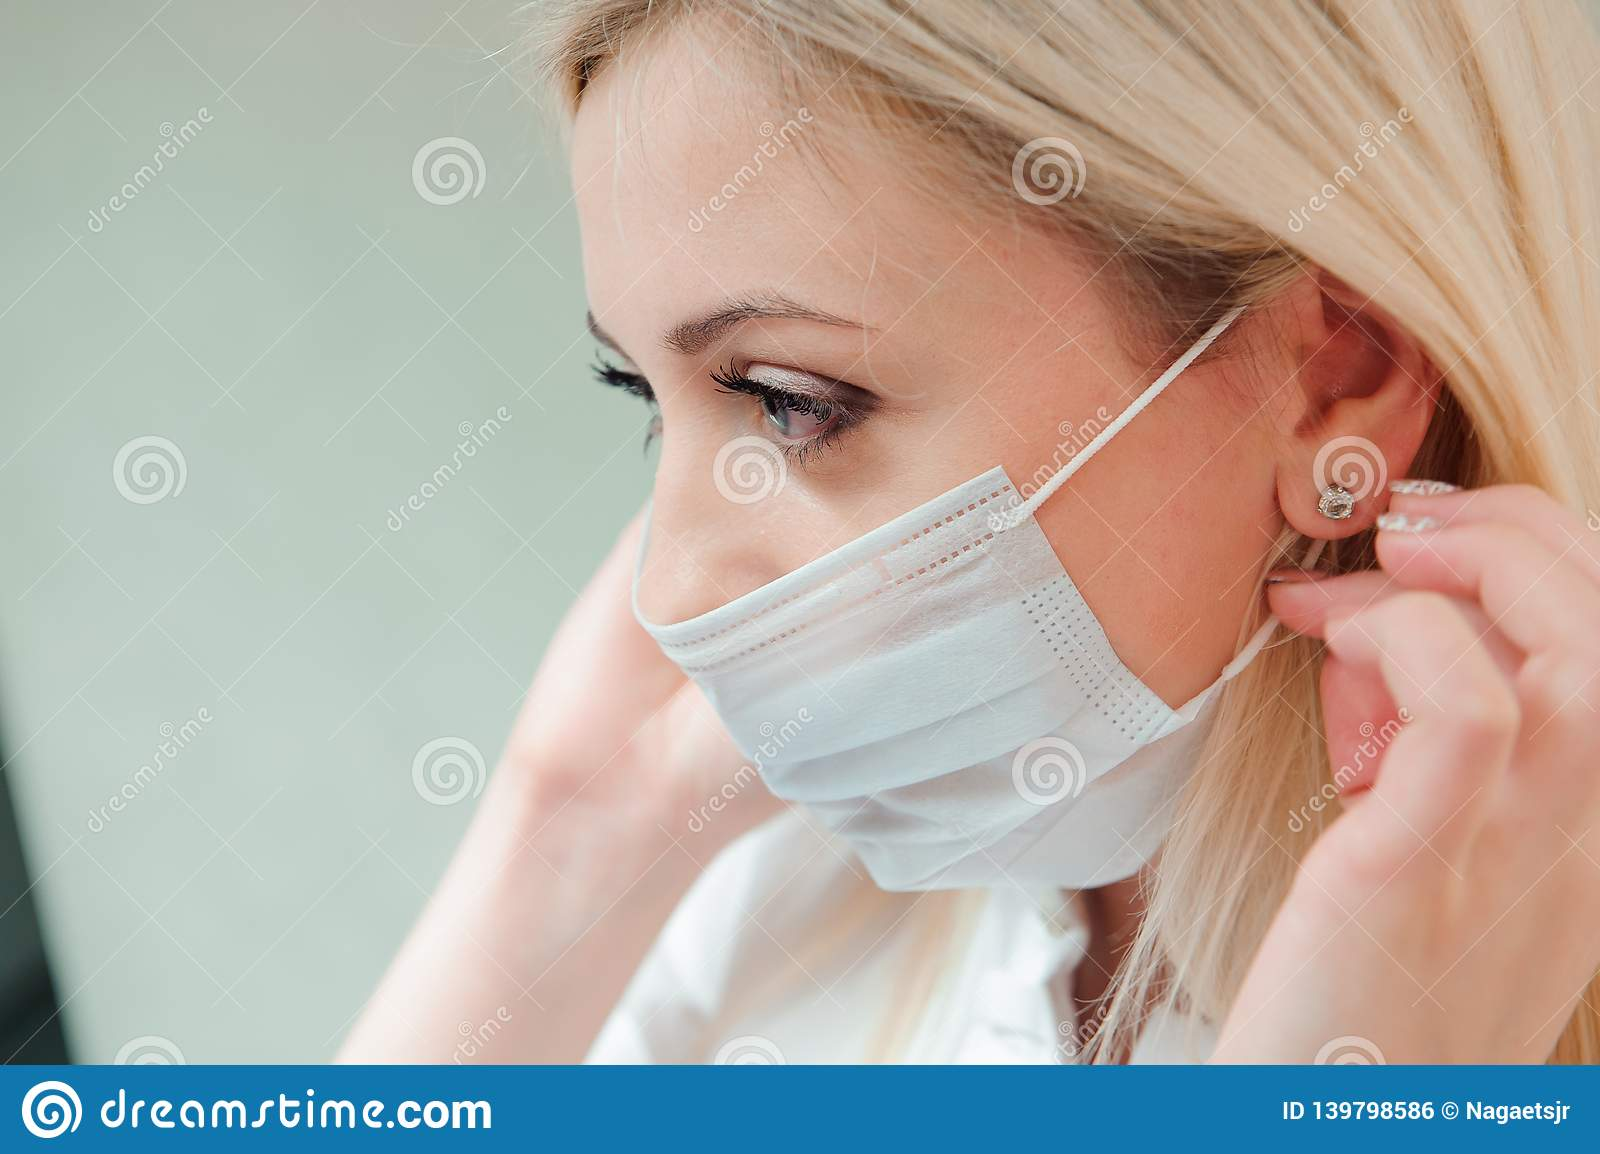mask: (591, 538, 1246, 925)
